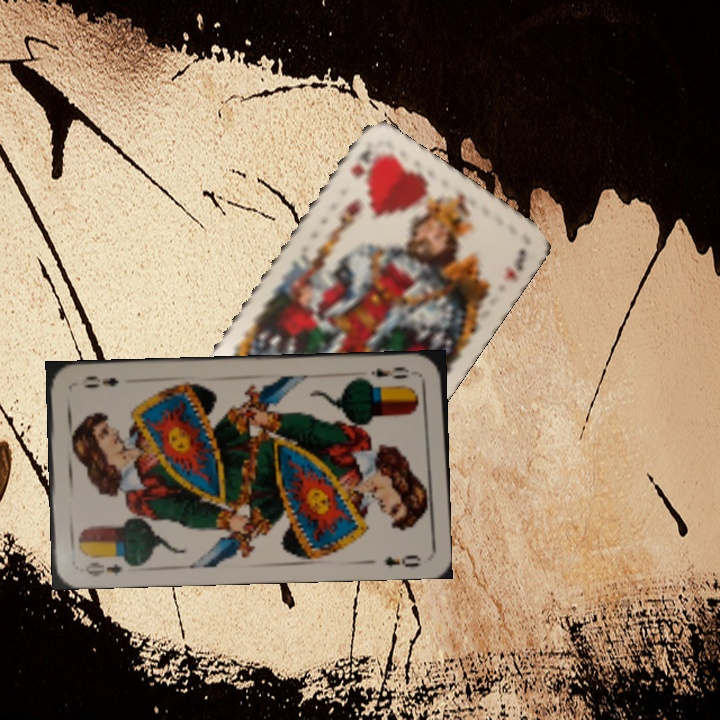EO: (81, 558, 124, 579), (367, 363, 412, 381)
HK: (346, 141, 375, 181)
